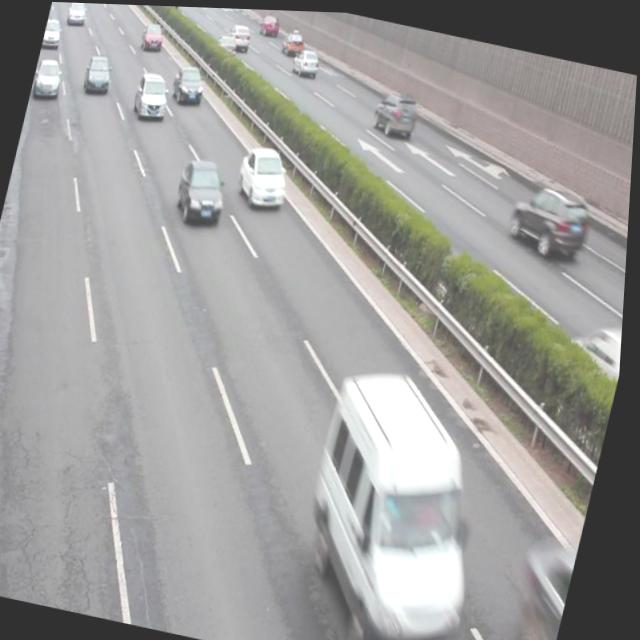car: (505, 174, 598, 258), (233, 139, 296, 213), (172, 153, 234, 228), (370, 82, 423, 140), (131, 66, 174, 123), (170, 62, 209, 109), (30, 55, 67, 104), (81, 52, 116, 98), (290, 44, 322, 78)
truck: (288, 358, 518, 640)
